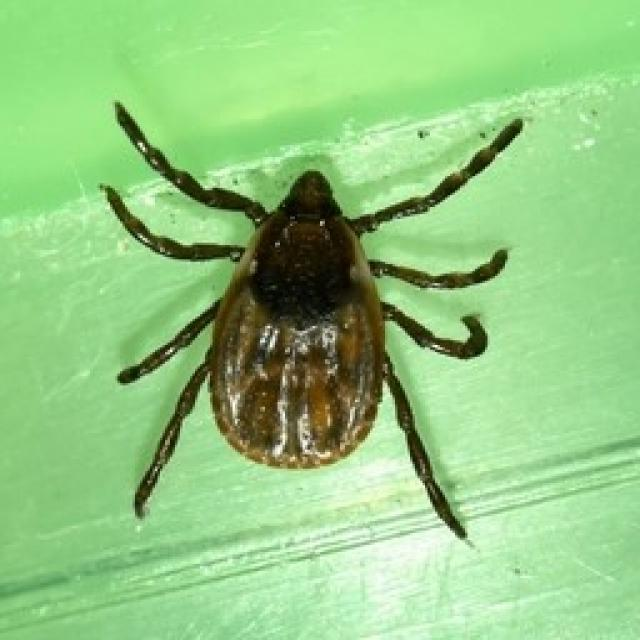Rhipicephalus Sanguineus-F: (98, 102, 525, 540)
